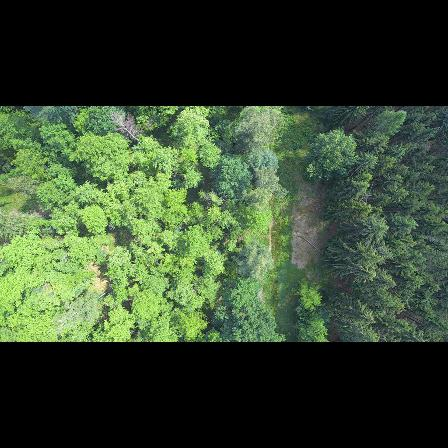Dead: (109, 111, 147, 148)
